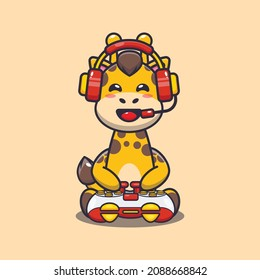animal: (80, 59, 180, 191)
